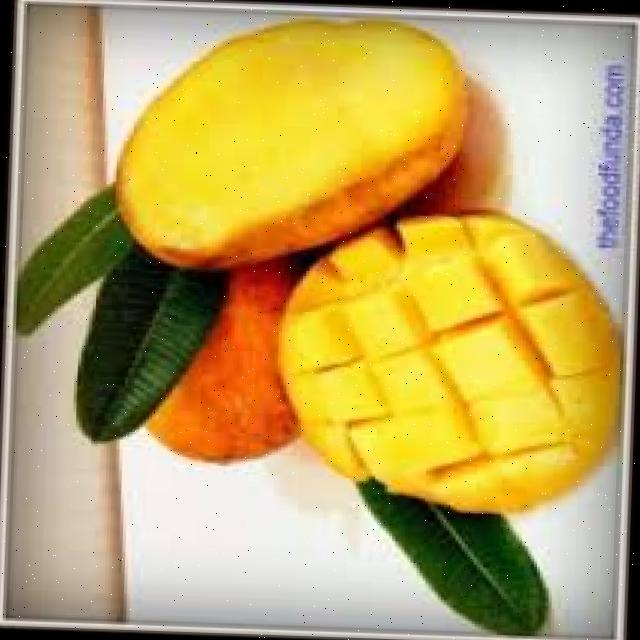mango: (277, 209, 624, 513)
